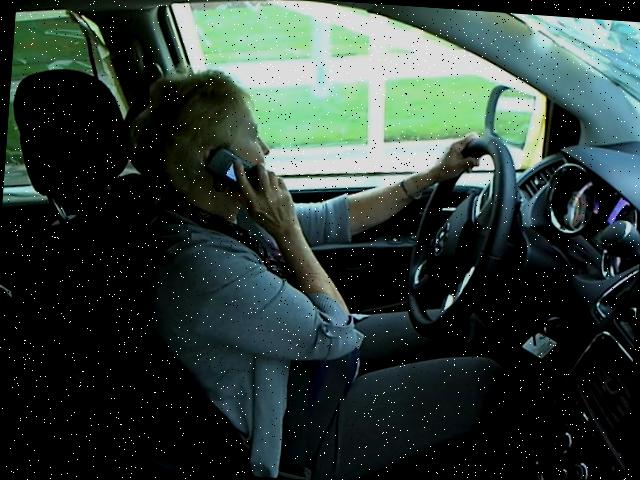c2 - Talking on the phone: (104, 58, 536, 386)
